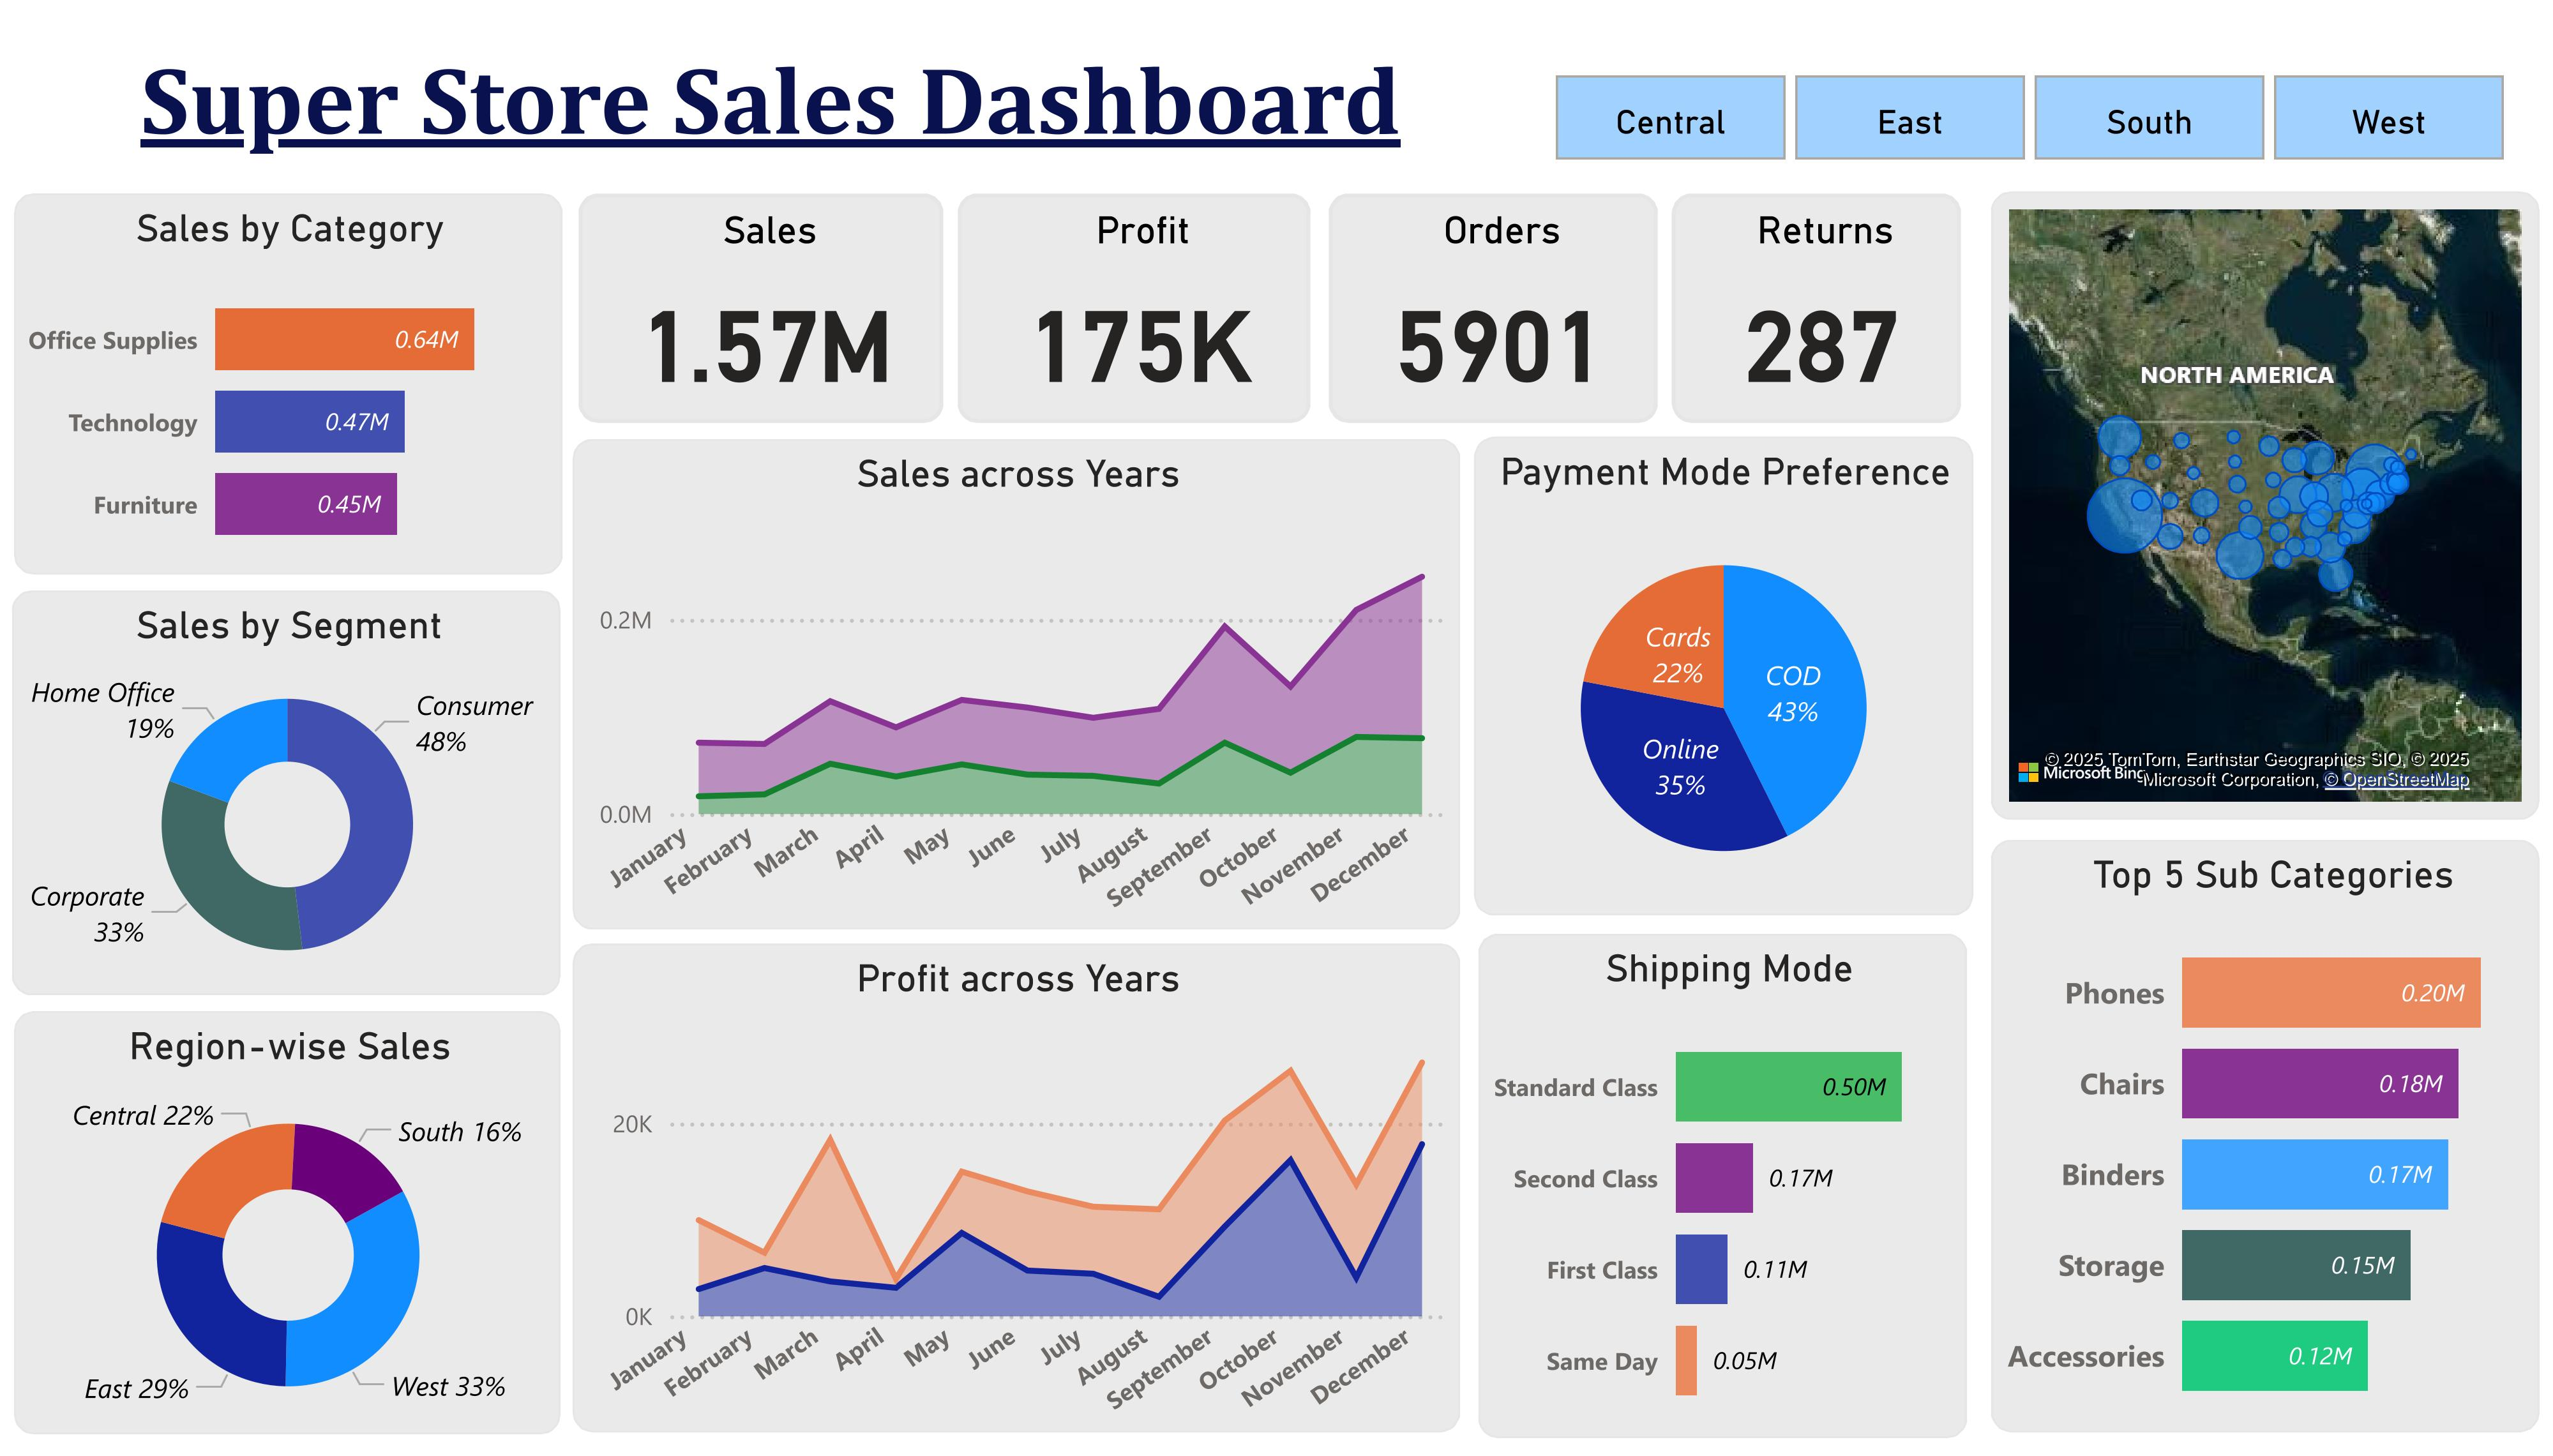

This screenshot's page, from the dashboard's own definition file:
{"tool":"powerbi","page":{"name":"Dashboard","canvas":[1280,720],"ordinal":0},"visuals":[{"type":"barChart","title":"Sales by Category","fields":{"Category":["SuperStore_Sales_Dataset.Category"],"Y":["Sum(SuperStore_Sales_Dataset.Sales)"]},"box":[7.2,91.7,275.1,190.6],"z":0},{"type":"clusteredBarChart","title":"Top 5 Sub Categories","fields":{"Category":["SuperStore_Sales_Dataset.Sub-Category"],"Y":["Sum(SuperStore_Sales_Dataset.Sales)"]},"box":[997.7,416.4,275.1,296.8],"z":1000},{"type":"clusteredBarChart","title":"Shipping Mode","fields":{"Y":["Sum(SuperStore_Sales_Dataset.Sales)"],"Category":["SuperStore_Sales_Dataset.Ship Mode"]},"box":[745.6,462.3,241.3,252.1],"z":2000},{"type":"stackedAreaChart","title":"Sales across Years","fields":{"Y":["Sum(SuperStore_Sales_Dataset.Sales)"],"Series":["SuperStore_Sales_Dataset.Order Date.Variation.Date Hierarchy.Year"],"Category":["SuperStore_Sales_Dataset.Order Date.Variation.Date Hierarchy.Month"]},"box":[287.1,214.7,450,246.1],"z":3000},{"type":"stackedAreaChart","title":"Profit across Years","fields":{"Series":["SuperStore_Sales_Dataset.Order Date.Variation.Date Hierarchy.Year"],"Category":["SuperStore_Sales_Dataset.Order Date.Variation.Date Hierarchy.Month"],"Y":["Sum(SuperStore_Sales_Dataset.Profit)"]},"box":[287.1,468.3,450,244.9],"z":4000},{"type":"map","fields":{"Category":["SuperStore_Sales_Dataset.State"],"Size":["Sum(SuperStore_Sales_Dataset.Sales)"]},"box":[992.9,91.7,279.9,314.9],"z":5000},{"type":"donutChart","title":"Payment Mode Preference","fields":{"Y":["Sum(SuperStore_Sales_Dataset.Sales)"],"Category":["SuperStore_Sales_Dataset.Payment Mode"]},"box":[744.4,213.5,242.5,240.1],"z":6000},{"type":"donutChart","title":"Sales by Segment","fields":{"Y":["Sum(SuperStore_Sales_Dataset.Sales)"],"Category":["SuperStore_Sales_Dataset.Segment"]},"box":[6,290.8,275.1,202.7],"z":7000},{"type":"donutChart","title":"Region-wise Sales","fields":{"Y":["Sum(SuperStore_Sales_Dataset.Sales)"],"Category":["SuperStore_Sales_Dataset.Region"]},"box":[7.2,502.1,273.9,212.3],"z":8000},{"type":"textbox","box":[8.4,10.9,756.4,72.4],"z":9000},{"type":"advancedSlicerVisual","fields":{"Values":["SuperStore_Sales_Dataset.Region"]},"box":[764.9,22.9,507.9,62.7],"z":10000},{"type":"card","title":"Sales","fields":{"Values":["Sum(SuperStore_Sales_Dataset.Sales)"]},"box":[289.5,91.9,183,115],"z":11000},{"type":"card","title":"Profit","fields":{"Values":["Sum(SuperStore_Sales_Dataset.Profit)"]},"box":[480.2,91.9,177,115],"z":12000},{"type":"card","title":"Orders","fields":{"Values":["CountNonNull(SuperStore_Sales_Dataset.Order ID)"]},"box":[666,91.9,165,115],"z":13000},{"type":"card","title":"Returns","fields":{"Values":["CountNonNull(SuperStore_Sales_Dataset.Returns)"]},"box":[838.5,91.9,145,115],"z":14000}]}

Visuals, with their boxes in screenshot pixels (x1, y1, x2, y2), scaled from the page's 1280x720 canvas onto the 2553x1456 screenshot:
"Sales by Category" barChart: (x1=14, y1=186, x2=563, y2=571)
"Top 5 Sub Categories" clusteredBarChart: (x1=1990, y1=842, x2=2539, y2=1442)
"Shipping Mode" clusteredBarChart: (x1=1487, y1=935, x2=1968, y2=1445)
"Sales across Years" stackedAreaChart: (x1=573, y1=434, x2=1470, y2=932)
"Profit across Years" stackedAreaChart: (x1=573, y1=947, x2=1470, y2=1442)
map - SuperStore_Sales_Dataset.State x Sum(SuperStore_Sales_Dataset.Sales): (x1=1980, y1=186, x2=2539, y2=822)
"Payment Mode Preference" donutChart: (x1=1485, y1=432, x2=1968, y2=917)
"Sales by Segment" donutChart: (x1=12, y1=588, x2=561, y2=998)
"Region-wise Sales" donutChart: (x1=14, y1=1016, x2=561, y2=1445)
textbox: (x1=17, y1=22, x2=1525, y2=169)
advancedSlicerVisual - SuperStore_Sales_Dataset.Region: (x1=1526, y1=47, x2=2539, y2=173)
"Sales" card: (x1=577, y1=186, x2=942, y2=418)
"Profit" card: (x1=958, y1=186, x2=1311, y2=418)
"Orders" card: (x1=1329, y1=186, x2=1657, y2=418)
"Returns" card: (x1=1673, y1=186, x2=1962, y2=418)
